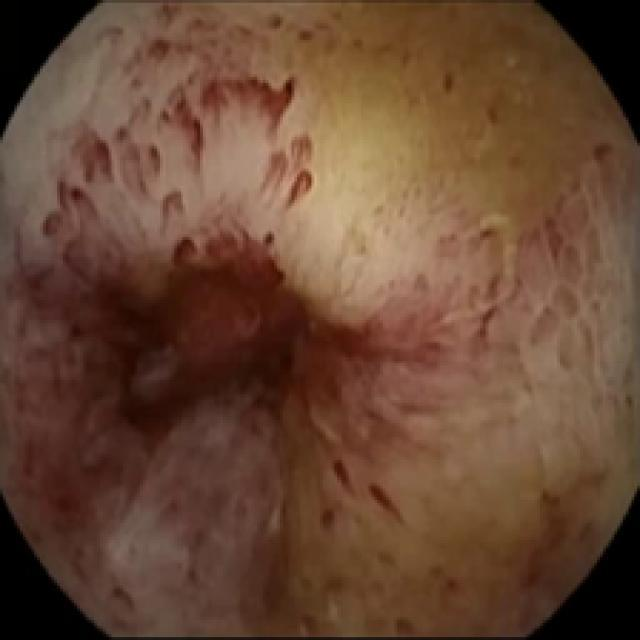bleeding: (9, 0, 458, 640), (470, 219, 575, 360), (508, 476, 611, 618)
